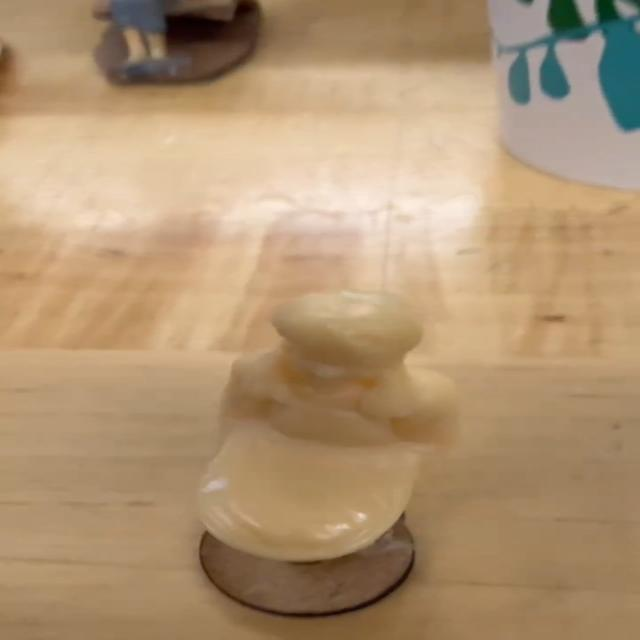Unauthorized: (142, 282, 481, 575)
